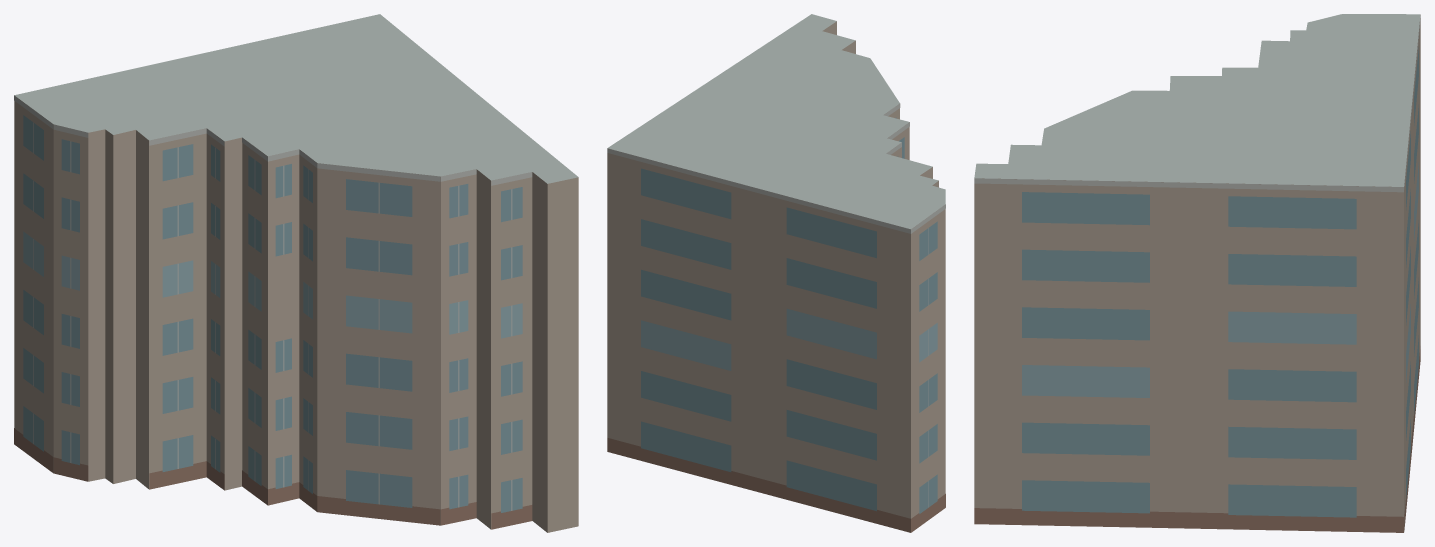
Rendered from survey-upis-32697295.glb.
The picture shows the model from 3 angles, left to right: view 1: azimuth 30°, elevation 25°; view 2: azimuth 150°, elevation 25°; view 3: azimuth 270°, elevation 25°; orthographic projection. The views are drawn at different scales.
Visible parts, largest first — view 1: survey-upis-32697295.tmp; view 2: survey-upis-32697295.tmp; view 3: survey-upis-32697295.tmp.
Boxes of the visible parts, <box> form: survey-upis-32697295.tmp: <box>14,14,578,532</box>; survey-upis-32697295.tmp: <box>607,14,945,532</box>; survey-upis-32697295.tmp: <box>974,14,1420,532</box>.
Bounding box in the file's own units: 17.29 × 16.1 × 18.83.
